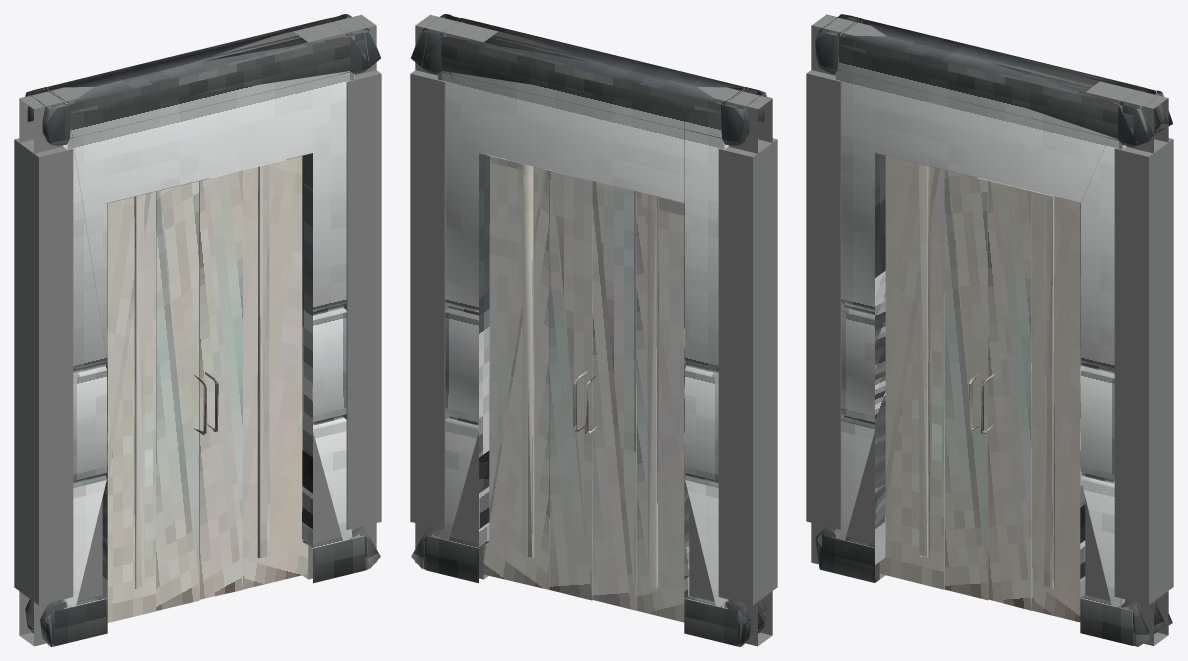
The model's file is wall-door.lod2.glb.
The picture shows the model from 3 angles, left to right: view 1: azimuth 30°, elevation 25°; view 2: azimuth 150°, elevation 25°; view 3: azimuth 330°, elevation 25°; orthographic projection.
Size of the model in its own units: 2 by 3 by 0.2989.
Materials: 2 (2 with a texture image).
